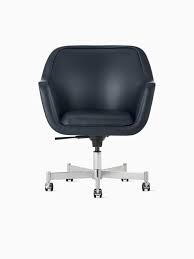chair: (42, 42, 159, 200)
